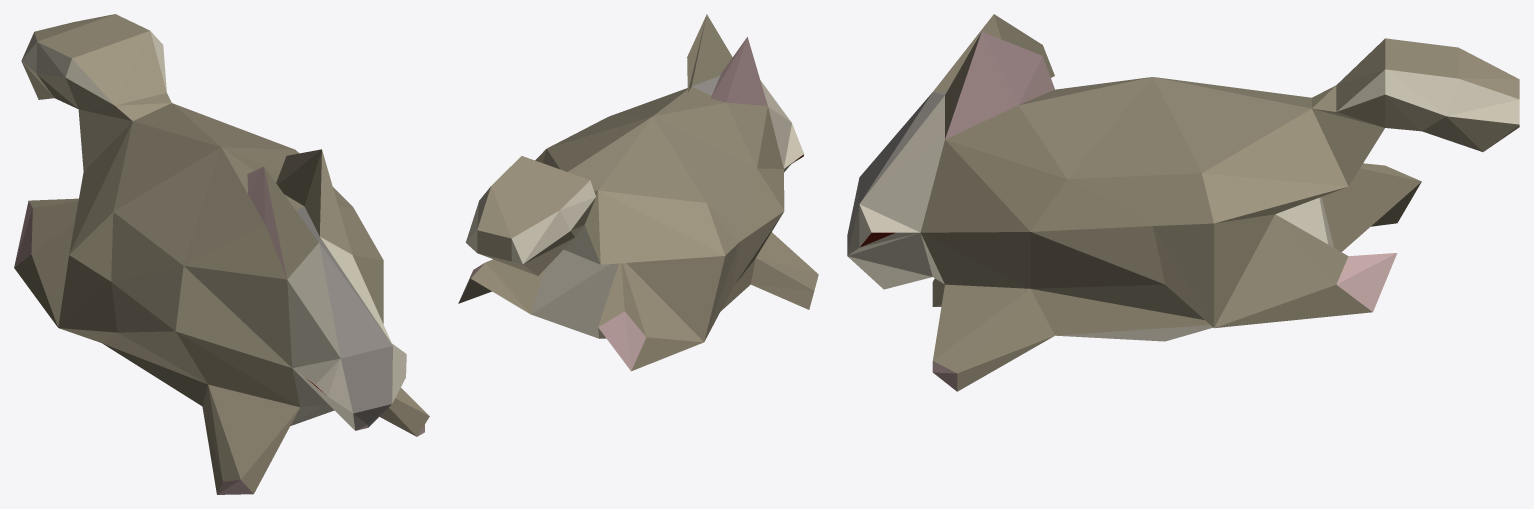
File: black_chinchompa_projectile.glb
3 views of the same model, side by side, from view 1: azimuth 30°, elevation 25°; view 2: azimuth 150°, elevation 25°; view 3: azimuth 270°, elevation 25° (orthographic). The views are drawn at different scales.
Bounding box in the file's own units: 29.69 × 49 × 66.17.
Materials: 1 (1 with a texture image).
